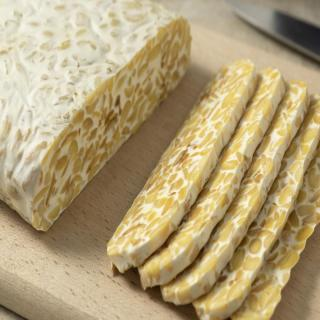Tempe: (103, 49, 320, 320), (1, 1, 193, 233)
